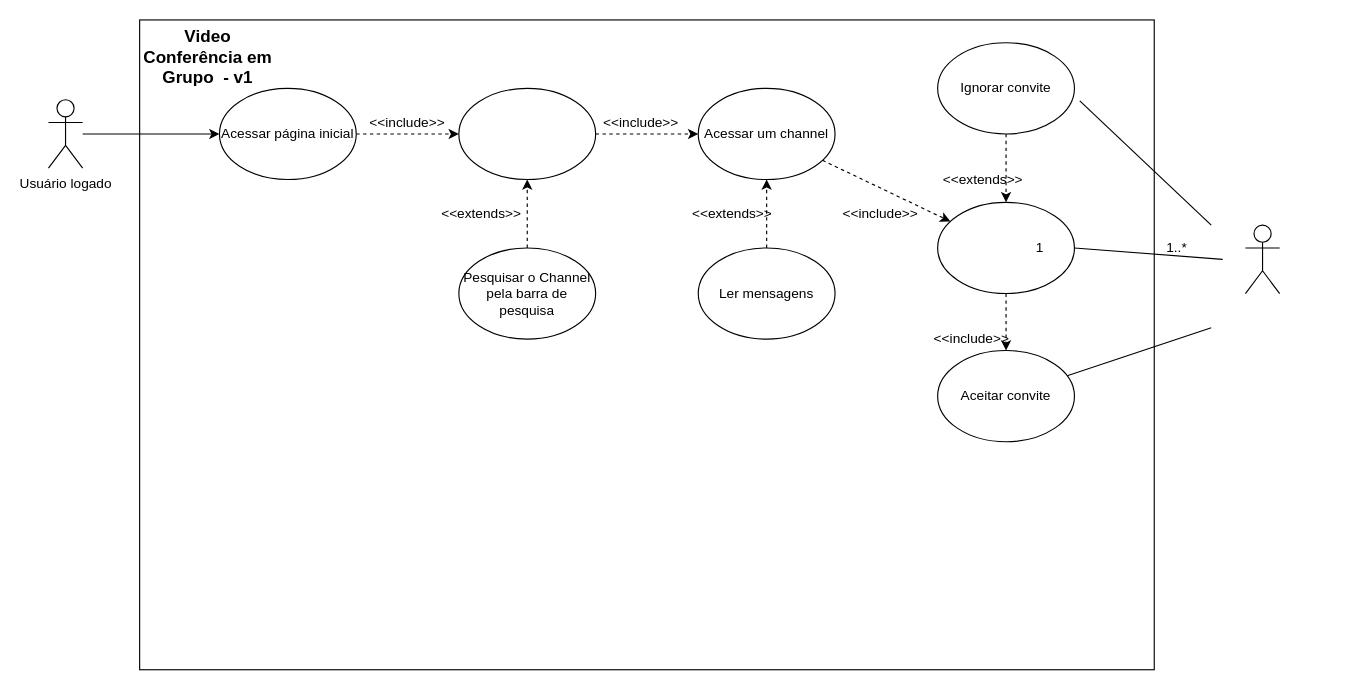
This 1351x690 diagram has some shape labels left out. Here are the shapes that lost their labels. From the top down, the box of each, then its label:
(458, 87, 596, 180): Buscar channel
(937, 201, 1074, 294): Enviar um convite para Web conferencia
(1244, 224, 1280, 294): Participantes do grupo
